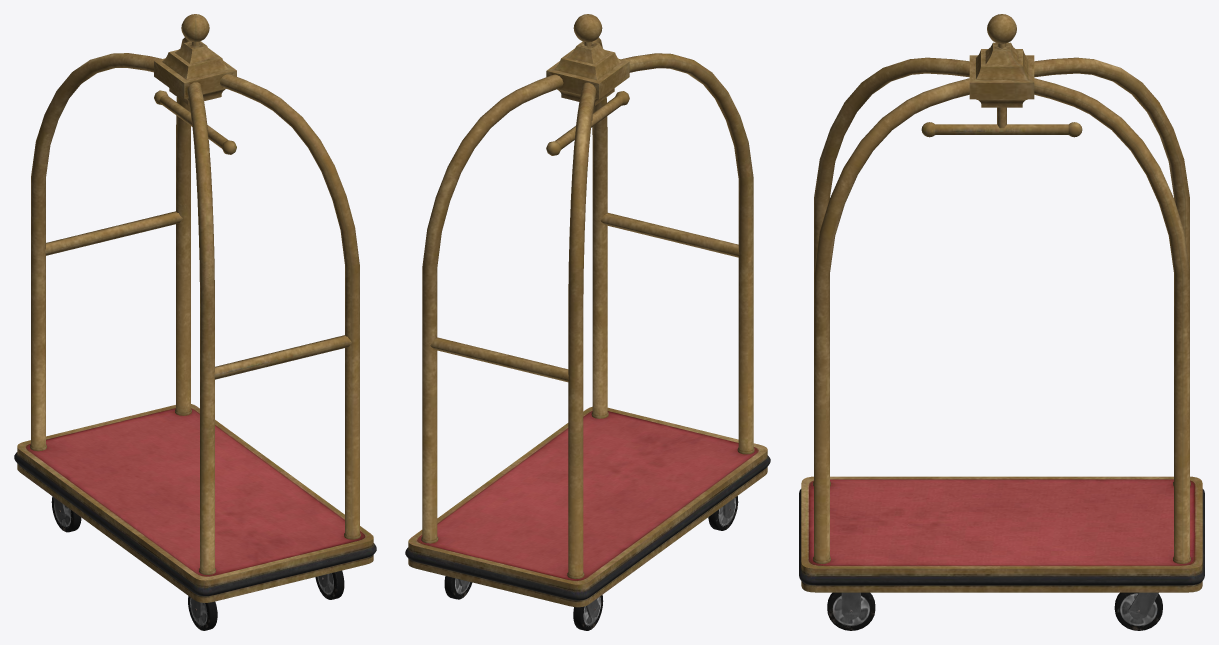
The model's file is trolley.glb.
The picture shows the model from 3 angles, left to right: view 1: azimuth 30°, elevation 25°; view 2: azimuth 150°, elevation 25°; view 3: azimuth 270°, elevation 25°; orthographic projection. The views are drawn at different scales.
Visible parts, largest first — view 1: trolley LOWPOLY; view 2: trolley LOWPOLY; view 3: trolley LOWPOLY.
Part boxes in pixels (x1,y1,x2,y2): trolley LOWPOLY: (14,14,376,630); trolley LOWPOLY: (405,14,770,630); trolley LOWPOLY: (799,14,1204,630).
Bounding box in the file's own units: 0.2849 × 0.82 × 0.5189.
1 material, 1 textured.
